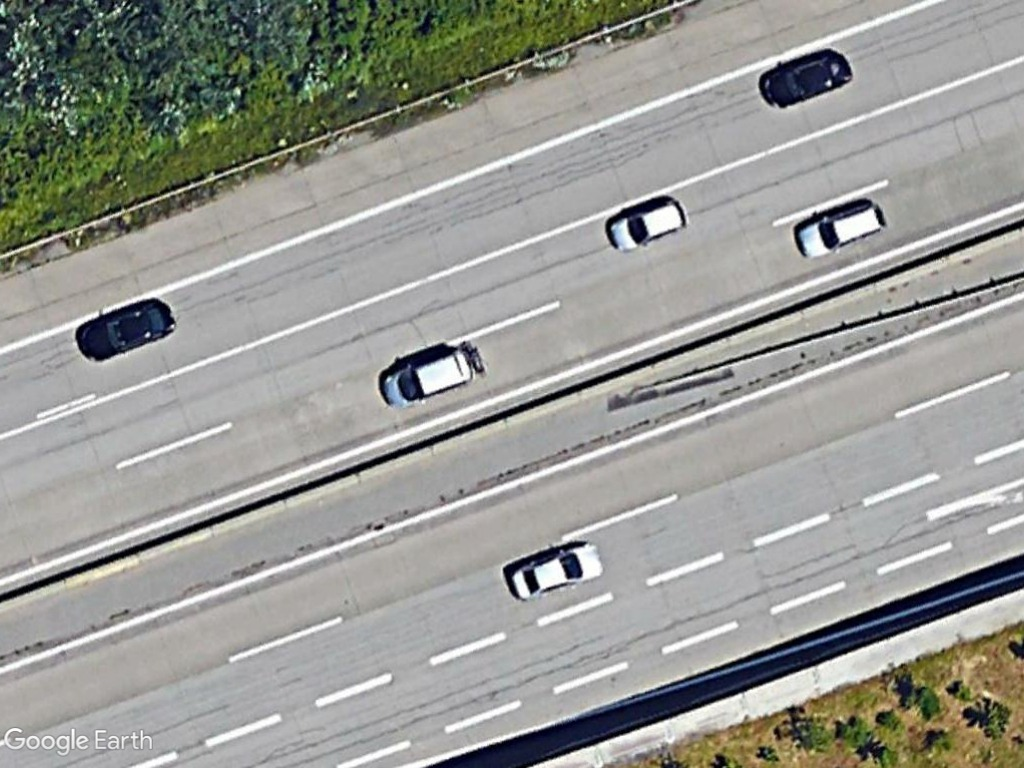car: (373, 341, 483, 413), (73, 293, 181, 365), (753, 45, 860, 113), (502, 537, 606, 604), (790, 194, 891, 261), (603, 192, 690, 256)
